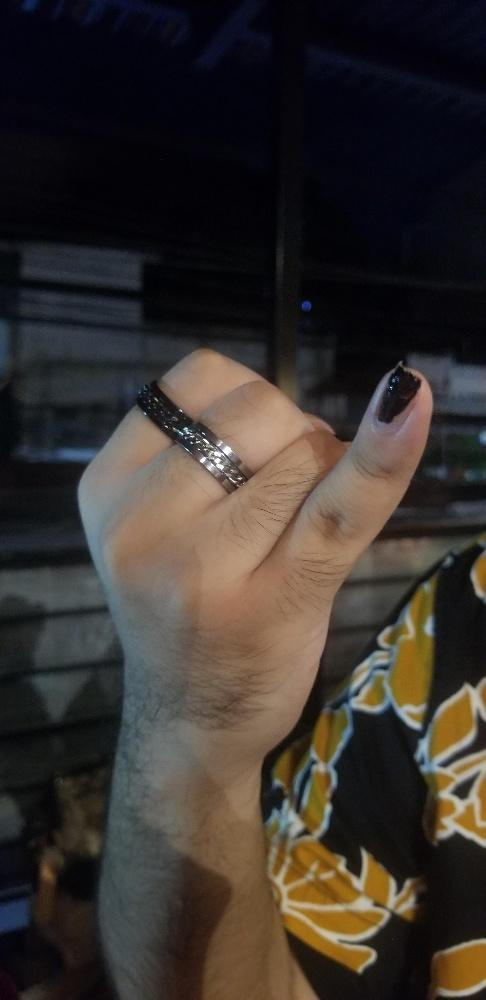j: (74, 344, 434, 748)
